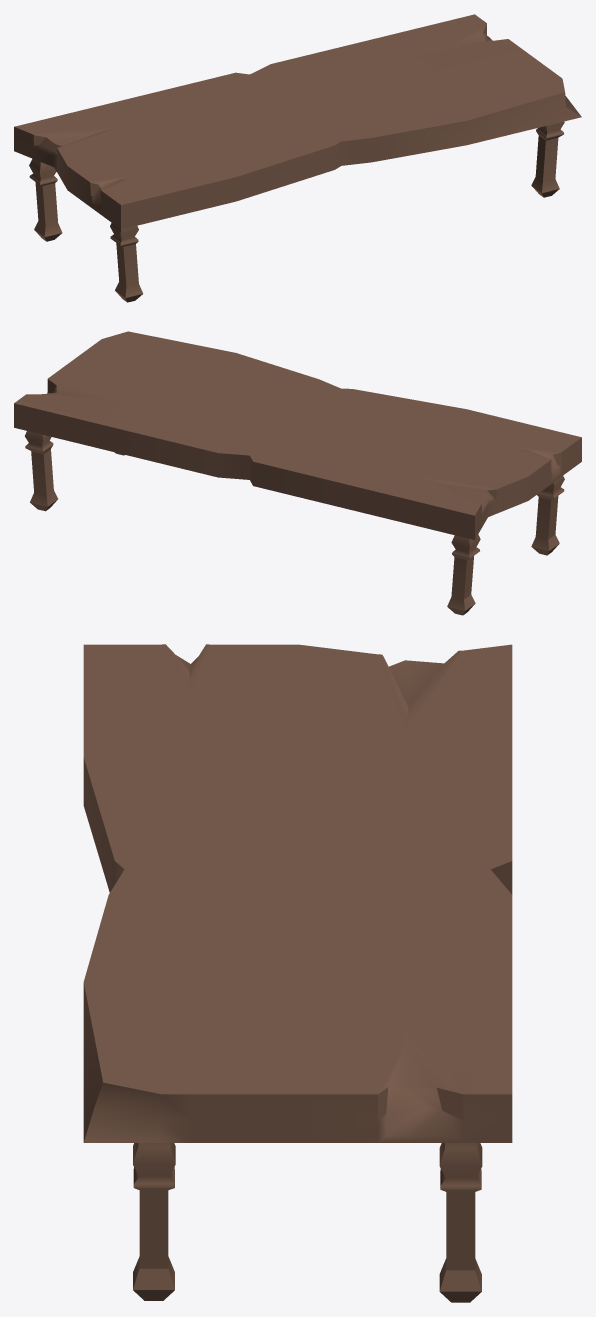
The model's file is table_02.fbx.
3 views of the same model, one above another, from view 1: azimuth 30°, elevation 25°; view 2: azimuth 150°, elevation 25°; view 3: azimuth 270°, elevation 25° (orthographic). The views are drawn at different scales.
Visible parts, largest first — view 1: main_table, legs1, legs, legs2; view 2: main_table, legs1, legs3, legs; view 3: main_table, legs3, legs2.
Boxes of the visible parts, box(x1,y1,x2,y2) form: main_table: box(14, 14, 581, 229); legs1: box(29, 158, 62, 241); legs: box(110, 223, 143, 302); legs2: box(531, 121, 564, 197); main_table: box(14, 331, 581, 539); legs1: box(447, 534, 480, 615); legs3: box(25, 431, 57, 511); legs: box(531, 476, 564, 555); main_table: box(83, 644, 512, 1142); legs3: box(439, 1143, 482, 1302); legs2: box(133, 1143, 175, 1300).
Size of the model in its own units: 514 by 118 by 207.
